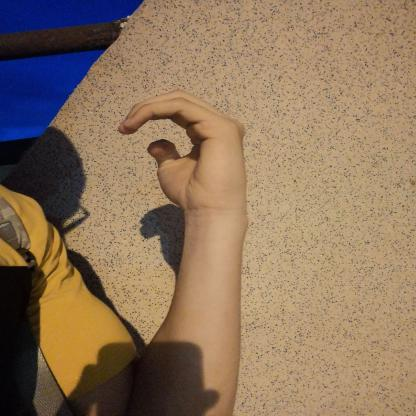JEEM: (101, 81, 266, 225)
